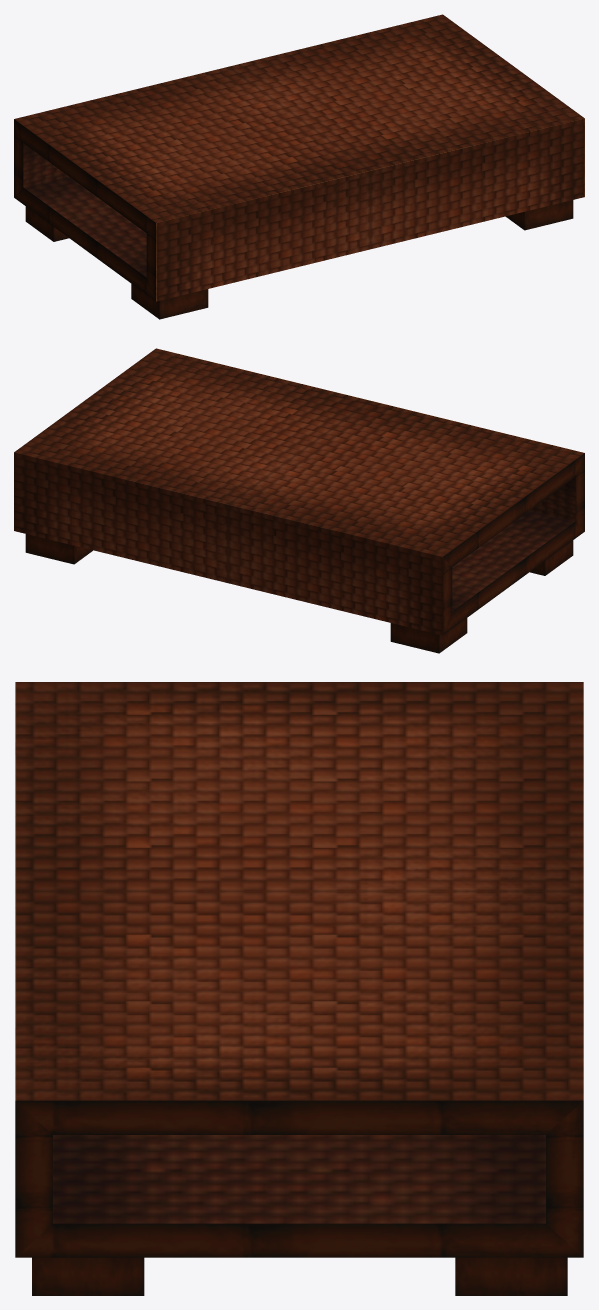
Rendered from Rattan_TableLow_02.FBX.
3 renders of one model, top to bottom at view 1: azimuth 30°, elevation 25°; view 2: azimuth 150°, elevation 25°; view 3: azimuth 270°, elevation 25°, orthographic. The views are drawn at different scales.
Visible parts, largest first — view 1: Rattan_TableLow_02; view 2: Rattan_TableLow_02; view 3: Rattan_TableLow_02.
Boxes of the visible parts, bbox=[...] form: Rattan_TableLow_02: bbox=[14, 14, 584, 319]; Rattan_TableLow_02: bbox=[14, 348, 584, 653]; Rattan_TableLow_02: bbox=[15, 682, 583, 1295].
Bounding box in the file's own units: 1.69 × 0.9725 × 0.3826.
